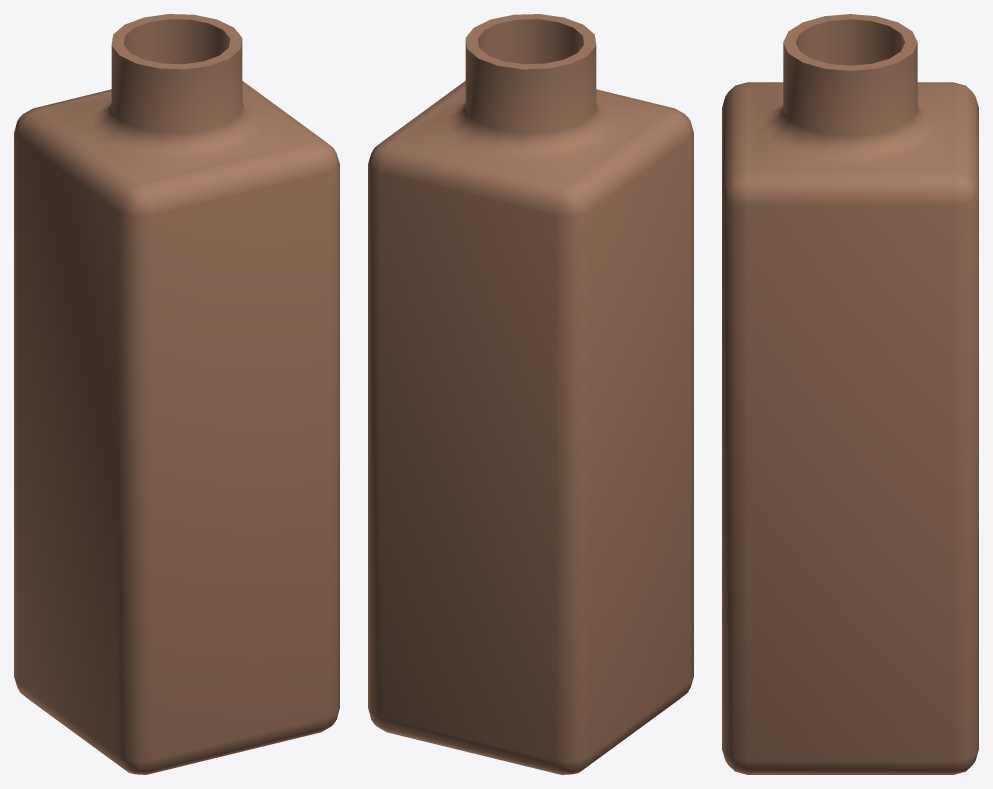
Rendered from FoundationBottle.fbx.
The picture shows the model from 3 angles, left to right: view 1: azimuth 30°, elevation 25°; view 2: azimuth 150°, elevation 25°; view 3: azimuth 270°, elevation 25°; orthographic projection.
Parts seen in each view (by area): view 1: FoundationBottle; view 2: FoundationBottle; view 3: FoundationBottle.
Boxes of the visible parts, x1,y1,x2,y2 form: FoundationBottle: (14,14,339,774); FoundationBottle: (368,14,693,774); FoundationBottle: (722,14,978,774).
Bounding box in the file's own units: 1.33 × 3.92 × 1.33.
